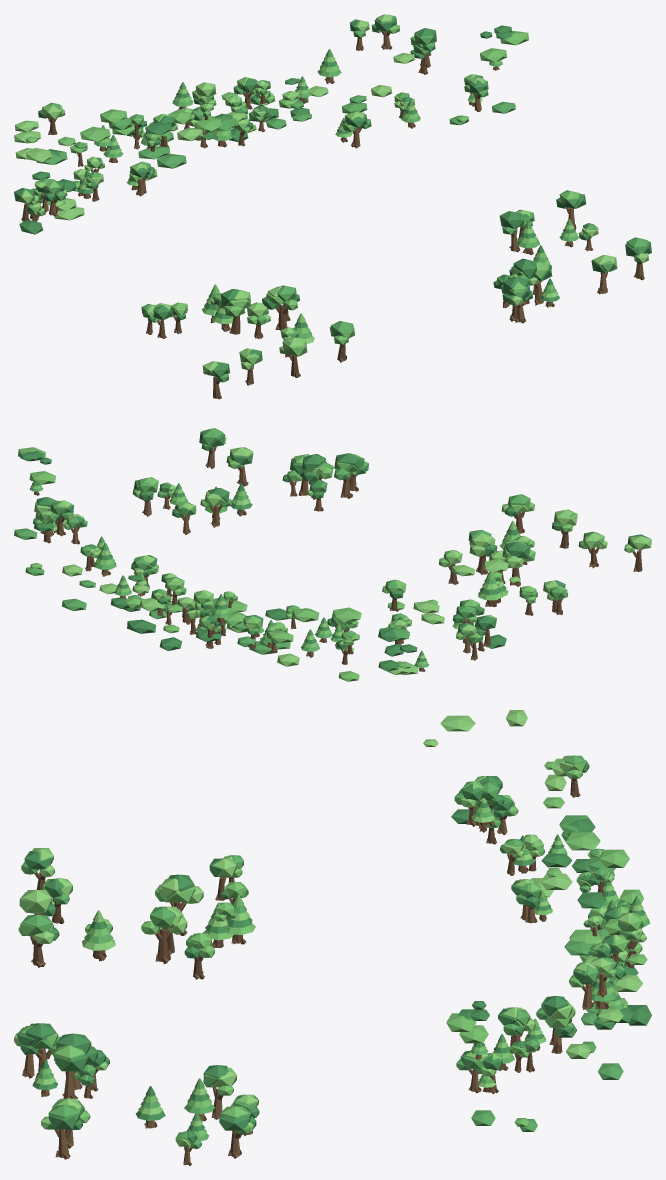
The model's file is 05b_Arvores.fbx.
3 views of the same model, one above another, from view 1: azimuth 30°, elevation 25°; view 2: azimuth 150°, elevation 25°; view 3: azimuth 270°, elevation 25° (orthographic). The views are drawn at different scales.
Size of the model in its own units: 24597 by 6647 by 20972.
